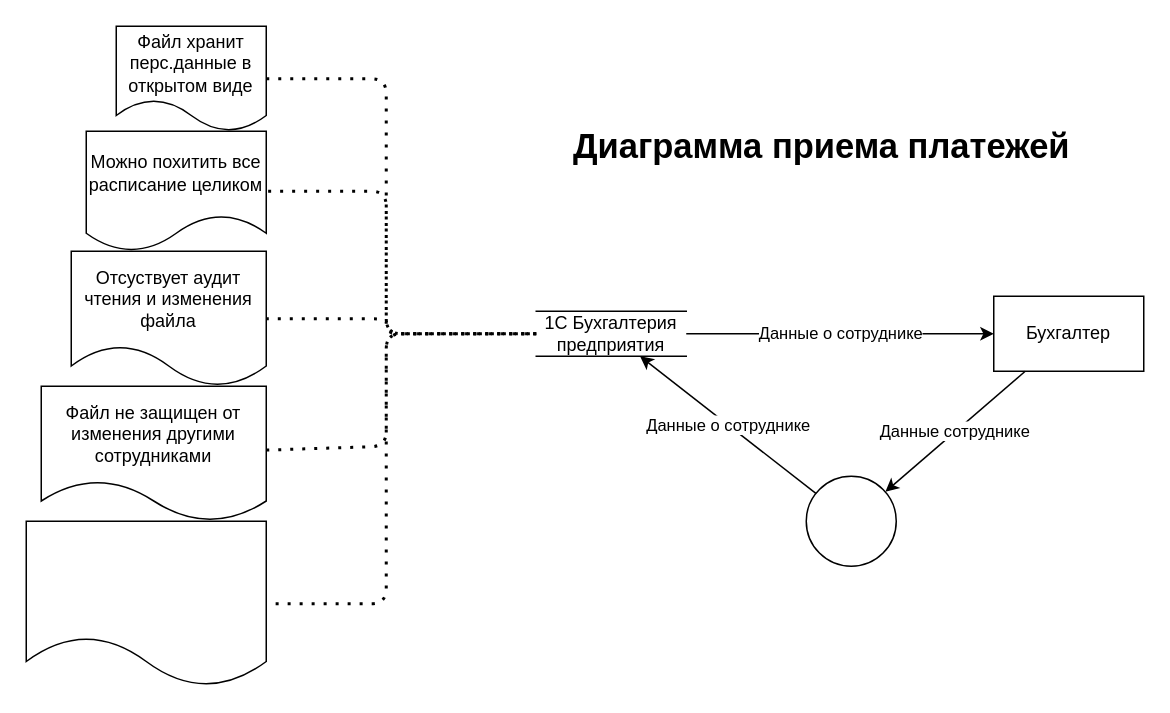
The diagram is 1170 pixels wide and 713 high, and some of its shapes have lost their labels. Each missing label, with the box of its shape:
Учет кадров: (805, 475, 896, 566)
ФИО, дата рождения, номер телефона, адрес электронной почты, паспортные данные: (25, 520, 266, 686)
